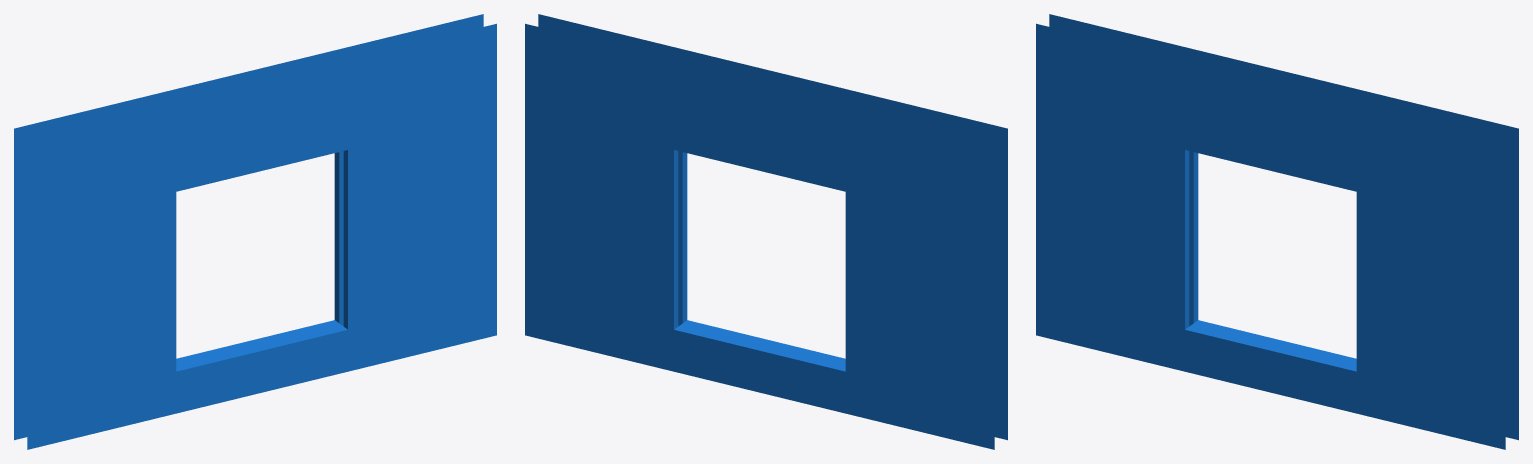
The model's file is Corridor_door_frame.fbx.
The picture shows the model from 3 angles, left to right: view 1: azimuth 30°, elevation 25°; view 2: azimuth 150°, elevation 25°; view 3: azimuth 330°, elevation 25°; orthographic projection.
Parts seen in each view (by area): view 1: DoorFrame; view 2: DoorFrame; view 3: DoorFrame.
Part boxes in pixels (bbox=[...]): DoorFrame: bbox=[14, 14, 496, 449]; DoorFrame: bbox=[525, 14, 1007, 449]; DoorFrame: bbox=[1036, 14, 1518, 449].
Bounding box in the file's own units: 820 × 520 × 40.
